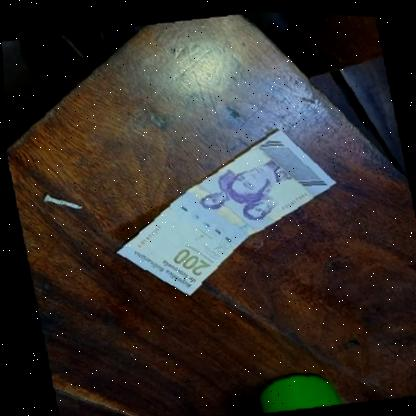two_hundred-front-vef: (97, 115, 350, 306)
